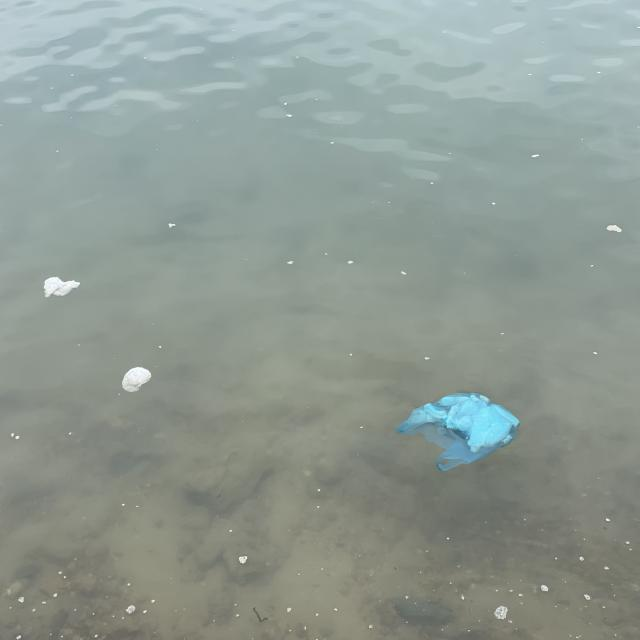Bungkus Makanan: (41, 268, 87, 304)
Bungkus Minuman: (119, 357, 158, 396)
Kantong Plastik: (402, 382, 528, 479)
